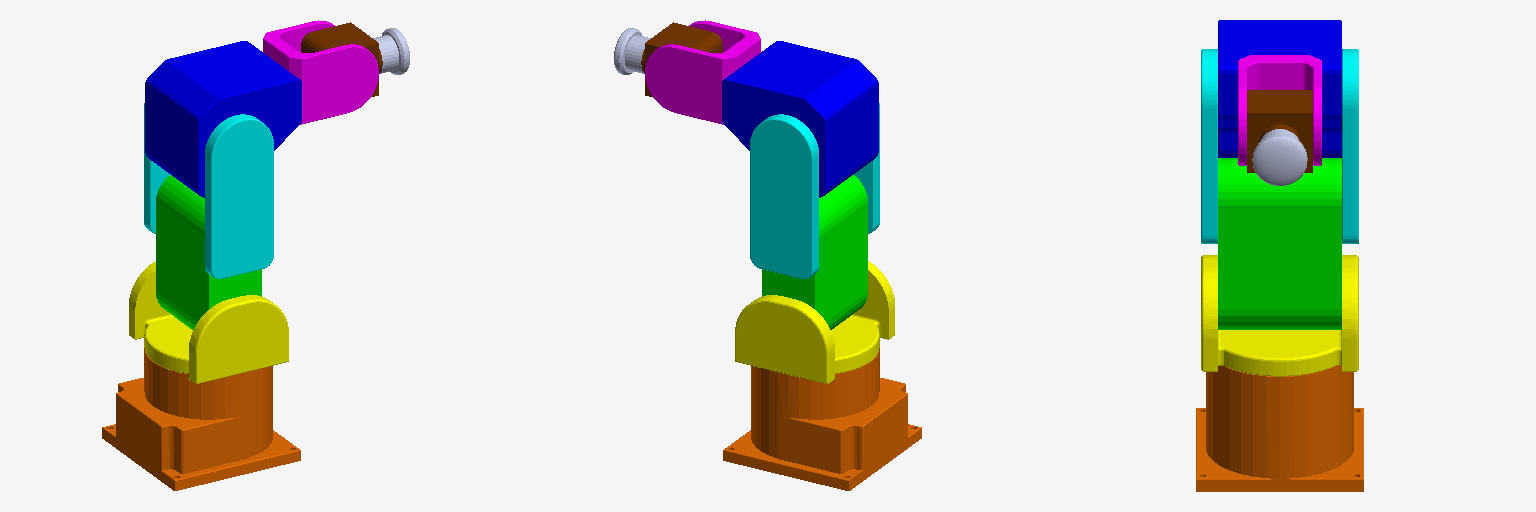
robot.urdf — articulated:
<?xml version="1.0" encoding="utf-8" ?>
<!-- This URDF was automatically created by SolidWorks to URDF Exporter! Originally created by [author] ([email redacted]) 
     Commit Version: 1.6.0-4-g7f85cfe  Build Version: 1.6.7995.38578
     For more information, please see http://wiki.ros.org/sw_urdf_exporter -->
<robot name="articulated">
    <link name="base_link">
        <inertial>
            <origin xyz="0.00128611942669327 3.58042401415727E-07 0.0617368360004532" rpy="0 0 0" />
            <mass value="3.18805790765431" />
            <inertia ixx="0.0108360916097952" ixy="1.07780467246259E-07" ixz="-0.000682378530740252" iyy="0.0116710774221464" iyz="5.61139425654641E-08" izz="0.0127157710155053" />
        </inertial>
        <visual>
            <origin xyz="0 0 0" rpy="0 0 0" />
            <geometry>
                <mesh filename="package://articulated/meshes/base_link.STL" />
            </geometry>
            <material name="">
                <color rgba="0.909803921568627 0.443137254901961 0.0313725490196078 1" />
            </material>
        </visual>
        <collision>
            <origin xyz="0 0 0" rpy="0 0 0" />
            <geometry>
                <mesh filename="package://articulated/meshes/base_link.STL" />
            </geometry>
        </collision>
    </link>
    <link name="link1">
        <inertial>
            <origin xyz="-5.20417042793042E-18 -2.0689663468673E-18 0.0133975276785481" rpy="0 0 0" />
            <mass value="1.00707557532342" />
            <inertia ixx="0.00385102211473437" ixy="6.23775394756446E-10" ixz="2.68531439034317E-19" iyy="0.0019207561625128" iyz="2.63997222136302E-19" izz="0.00434738361070072" />
        </inertial>
        <visual>
            <origin xyz="0 0 0" rpy="0 0 0" />
            <geometry>
                <mesh filename="package://articulated/meshes/link1.STL" />
            </geometry>
            <material name="">
                <color rgba="1 1 0 1" />
            </material>
        </visual>
        <collision>
            <origin xyz="0 0 0" rpy="0 0 0" />
            <geometry>
                <mesh filename="package://articulated/meshes/link1.STL" />
            </geometry>
        </collision>
    </link>
    <joint name="joint1" type="continuous">
        <origin xyz="0.0105 0 0.156" rpy="0 0 0" />
        <parent link="base_link" />
        <child link="link1" />
        <axis xyz="0 0 1" />
        <limit lower="-6.2832" upper="6.2832" effort="5" velocity="1.0" />
    </joint>
    <link name="link2">
        <inertial>
            <origin xyz="-6.52740554316078E-10 -0.0599992742466237 0.0661980000015045" rpy="0 0 0" />
            <mass value="1.35536530570178" />
            <inertia ixx="0.00340678769029807" ixy="-5.86601661170814E-10" ixz="-6.4324380881716E-10" iyy="0.0026906883868499" iyz="7.16160160151403E-14" izz="0.00213791141814025" />
        </inertial>
        <visual>
            <origin xyz="0 0 0" rpy="0 0 0" />
            <geometry>
                <mesh filename="package://articulated/meshes/link2.STL" />
            </geometry>
            <material name="">
                <color rgba="0 1 0 1" />
            </material>
        </visual>
        <collision>
            <origin xyz="0 0 0" rpy="0 0 0" />
            <geometry>
                <mesh filename="package://articulated/meshes/link2.STL" />
            </geometry>
        </collision>
    </link>
    <joint name="joint2" type="continuous">
        <origin xyz="0 -0.066197 0.039" rpy="-1.5708 0 0" />
        <parent link="link1" />
        <child link="link2" />
        <axis xyz="0 0 1" />
        <limit lower="-1.5708" upper="1.5708" effort="5" velocity="1.0" />
    </joint>
    <link name="link3">
        <inertial>
            <origin xyz="2.0122792321331E-16 -0.0575499251416765 0.0662005878767141" rpy="0 0 0" />
            <mass value="1.06598978839683" />
            <inertia ixx="0.00801737325593311" ixy="1.14035838545704E-17" ixz="5.51729468572909E-19" iyy="0.00474318187244463" iyz="2.88283796826314E-18" izz="0.00420327013994247" />
        </inertial>
        <visual>
            <origin xyz="0 0 0" rpy="0 0 0" />
            <geometry>
                <mesh filename="package://articulated/meshes/link3.STL" />
            </geometry>
            <material name="">
                <color rgba="0 1 1 1" />
            </material>
        </visual>
        <collision>
            <origin xyz="0 0 0" rpy="0 0 0" />
            <geometry>
                <mesh filename="package://articulated/meshes/link3.STL" />
            </geometry>
        </collision>
    </link>
    <joint name="joint3" type="continuous">
        <origin xyz="0 -0.12 0" rpy="0 0 0" />
        <parent link="link2" />
        <child link="link3" />
        <axis xyz="0 0 1" />
        <limit lower="-2.3562" upper="2.3562" effort="5" velocity="1.0" />
    </joint>
    <link name="link4">
        <inertial>
            <origin xyz="0.0123461980766576 0.0172605923851257 0.0661979999999999" rpy="0 0 0" />
            <mass value="2.04666620981605" />
            <inertia ixx="0.00654782221736674" ixy="-0.000881414246096521" ixz="-8.76155792982322E-19" iyy="0.00594999213892928" iyz="5.61775523198687E-18" izz="0.00659163741079008" />
        </inertial>
        <visual>
            <origin xyz="0 0 0" rpy="0 0 0" />
            <geometry>
                <mesh filename="package://articulated/meshes/link4.STL" />
            </geometry>
            <material name="">
                <color rgba="0 0 1 1" />
            </material>
        </visual>
        <collision>
            <origin xyz="0 0 0" rpy="0 0 0" />
            <geometry>
                <mesh filename="package://articulated/meshes/link4.STL" />
            </geometry>
        </collision>
    </link>
    <joint name="joint4" type="continuous">
        <origin xyz="0 -0.12 0" rpy="0 0 -1.5708" />
        <parent link="link3" />
        <child link="link4" />
        <axis xyz="0 0 1" />
        <limit lower="-3.1416" upper="1.2217" effort="5" velocity="1.0" />
    </joint>
    <link name="link5">
        <inertial>
            <origin xyz="-5.40581802888074E-06 3.59409923688773E-05 0.0300071853102081" rpy="0 0 0" />
            <mass value="0.325688517709461" />
            <inertia ixx="0.000784405454959843" ixy="-6.3528853988584E-11" ixz="-8.27859229599253E-08" iyy="0.000627897905556096" iyz="2.96273660768031E-07" izz="0.000542980209868069" />
        </inertial>
        <visual>
            <origin xyz="0 0 0" rpy="0 0 0" />
            <geometry>
                <mesh filename="package://articulated/meshes/link5.STL" />
            </geometry>
            <material name="">
                <color rgba="1 0 1 1" />
            </material>
        </visual>
        <collision>
            <origin xyz="0 0 0" rpy="0 0 0" />
            <geometry>
                <mesh filename="package://articulated/meshes/link5.STL" />
            </geometry>
        </collision>
    </link>
    <joint name="joint5" type="continuous">
        <origin xyz="0.042496 0.11491 0.066198" rpy="-1.5708 0 0" />
        <parent link="link4" />
        <child link="link5" />
        <axis xyz="0 0 1" />
        <limit lower="-6.2832" upper="6.2832" effort="5" velocity="1.0" />
    </joint>
    <link name="link6">
        <inertial>
            <origin xyz="5.55111512312578E-17 0.00311356587031558 0.035452719816483" rpy="0 0 0" />
            <mass value="0.318196109669744" />
            <inertia ixx="0.000296373081861996" ixy="2.91410730188654E-19" ixz="3.88001531457165E-20" iyy="0.000269774523273202" iyz="1.74510257709243E-08" izz="0.000310319948975258" />
        </inertial>
        <visual>
            <origin xyz="0 0 0" rpy="0 0 0" />
            <geometry>
                <mesh filename="package://articulated/meshes/link6.STL" />
            </geometry>
            <material name="">
                <color rgba="0.486274509803922 0.235294117647059 0.0156862745098039 1" />
            </material>
        </visual>
        <collision>
            <origin xyz="0 0 0" rpy="0 0 0" />
            <geometry>
                <mesh filename="package://articulated/meshes/link6.STL" />
            </geometry>
        </collision>
    </link>
    <joint name="joint6" type="continuous">
        <origin xyz="0 0.035454 0.072339" rpy="1.5708 0 0" />
        <parent link="link5" />
        <child link="link6" />
        <axis xyz="0 0 1" />
        <limit lower="-2.3562" upper="2.3562" effort="5" velocity="1.0" />
    </joint>
    <link name="link7">
        <inertial>
            <origin xyz="1.06753533957171E-07 4.41059073693134E-08 -0.0198783856388048" rpy="0 0 0" />
            <mass value="0.0780517503035173" />
            <inertia ixx="2.28791002653248E-05" ixy="3.67502773951308E-16" ixz="-6.61667618445519E-11" iyy="2.28791002645872E-05" iyz="-2.73372220682942E-11" izz="2.516987373376E-05" />
        </inertial>
        <visual>
            <origin xyz="0 0 0" rpy="0 0 0" />
            <geometry>
                <mesh filename="package://articulated/meshes/link7.STL" />
            </geometry>
            <material name="">
                <color rgba="0.792156862745098 0.819607843137255 0.933333333333333 1" />
            </material>
        </visual>
        <collision>
            <origin xyz="0 0 0" rpy="0 0 0" />
            <geometry>
                <mesh filename="package://articulated/meshes/link7.STL" />
            </geometry>
        </collision>
    </link>
    <joint name="end_effector" type="continuous">
        <origin xyz="0 0.089454 0.035454" rpy="1.5708 0 -3.1416" />
        <parent link="link6" />
        <child link="link7" />
        <axis xyz="0 0 1" />
    </joint>
    <gazebo>
        <plugin name="gazebo_ros_control" filename="libgazebo_ros_control.so">
            <robotNamespace>/</robotNamespace>
        </plugin>
    </gazebo>
    <!-- Transmissions für 6 DOF Knickarm-Roboter -->
    <transmission name="joint1_trans">
        <type>transmission_interface/SimpleTransmission</type>
        <joint name="joint1">
            <hardwareInterface>hardware_interface/PositionJointInterface</hardwareInterface>
        </joint>
        <actuator name="motor1">
            <hardwareInterface>hardware_interface/PositionJointInterface</hardwareInterface>
            <mechanicalReduction>1</mechanicalReduction>
        </actuator>
    </transmission>
    <transmission name="joint2_trans">
        <type>transmission_interface/SimpleTransmission</type>
        <joint name="joint2">
            <hardwareInterface>hardware_interface/PositionJointInterface</hardwareInterface>
        </joint>
        <actuator name="motor2">
            <hardwareInterface>hardware_interface/PositionJointInterface</hardwareInterface>
            <mechanicalReduction>1</mechanicalReduction>
        </actuator>
    </transmission>
    <transmission name="joint3_trans">
        <type>transmission_interface/SimpleTransmission</type>
        <joint name="joint3">
            <hardwareInterface>hardware_interface/PositionJointInterface</hardwareInterface>
        </joint>
        <actuator name="motor3">
            <hardwareInterface>hardware_interface/PositionJointInterface</hardwareInterface>
            <mechanicalReduction>1</mechanicalReduction>
        </actuator>
    </transmission>
    <transmission name="joint4_trans">
        <type>transmission_interface/SimpleTransmission</type>
        <joint name="joint4">
            <hardwareInterface>hardware_interface/PositionJointInterface</hardwareInterface>
        </joint>
        <actuator name="motor4">
            <hardwareInterface>hardware_interface/PositionJointInterface</hardwareInterface>
            <mechanicalReduction>1</mechanicalReduction>
        </actuator>
    </transmission>
    <transmission name="joint5_trans">
        <type>transmission_interface/SimpleTransmission</type>
        <joint name="joint5">
            <hardwareInterface>hardware_interface/PositionJointInterface</hardwareInterface>
        </joint>
        <actuator name="motor5">
            <hardwareInterface>hardware_interface/PositionJointInterface</hardwareInterface>
            <mechanicalReduction>1</mechanicalReduction>
        </actuator>
    </transmission>
    <transmission name="joint6_trans">
        <type>transmission_interface/SimpleTransmission</type>
        <joint name="joint6">
            <hardwareInterface>hardware_interface/PositionJointInterface</hardwareInterface>
        </joint>
        <actuator name="motor6">
            <hardwareInterface>hardware_interface/PositionJointInterface</hardwareInterface>
            <mechanicalReduction>1</mechanicalReduction>
        </actuator>
    </transmission>
    <gazebo>
        <plugin name="gazebo_ros_control" filename="libgazebo_ros_control.so" />
    </gazebo>
    <transmission name="trans_end_effector">
        <type>transmission_interface/SimpleTransmission</type>
        <joint name="end_effector">
            <hardwareInterface>hardware_interface/EffortJointInterface</hardwareInterface>
        </joint>
        <actuator name="end_effector_motor">
            <hardwareInterface>hardware_interface/EffortJointInterface</hardwareInterface>
            <mechanicalReduction>1</mechanicalReduction>
        </actuator>
    </transmission>
</robot>

--- What the picture shows (computed from the rendered views, not written in the file) ---
3 views of the same robot in one strip: view 1: azimuth 30°, elevation 25°; view 2: azimuth 150°, elevation 25°; view 3: azimuth 270°, elevation 25° (orthographic).
Robot: articulated — 8 links, 7 joints (7 continuous); root link base_link; default pose: every joint at zero.
Links seen in each view (by area): view 1: base_link, link4, link3, link1, link2, link5, link6, link7; view 2: base_link, link4, link3, link1, link2, link5, link6, link7; view 3: link2, base_link, link1, link4, link3, link5, link6, link7.
Boxes of the visible links, box(x1,y1,x2,y2) form: base_link: box(102, 348, 300, 490); link4: box(145, 41, 301, 197); link3: box(144, 103, 273, 278); link1: box(129, 261, 288, 383); link2: box(156, 175, 261, 329); link5: box(263, 20, 378, 124); link6: box(301, 22, 382, 96); link7: box(373, 28, 409, 74); base_link: box(723, 348, 921, 490); link4: box(722, 41, 878, 197); link3: box(750, 103, 879, 278); link1: box(735, 261, 894, 383); link2: box(762, 175, 867, 329); link5: box(645, 20, 760, 124); link6: box(641, 22, 722, 96); link7: box(614, 28, 650, 74); link2: box(1218, 158, 1341, 329); base_link: box(1196, 366, 1363, 491); link1: box(1201, 255, 1358, 376); link4: box(1218, 20, 1341, 157); link3: box(1201, 49, 1358, 243); link5: box(1238, 55, 1321, 165); link6: box(1247, 90, 1312, 172); link7: box(1252, 129, 1307, 185).
Size in the robot's own frame: 0.3772 by 0.18 by 0.5225 metres.
8 mesh visuals loaded from 8 distinct referenced files (8 binary STL).